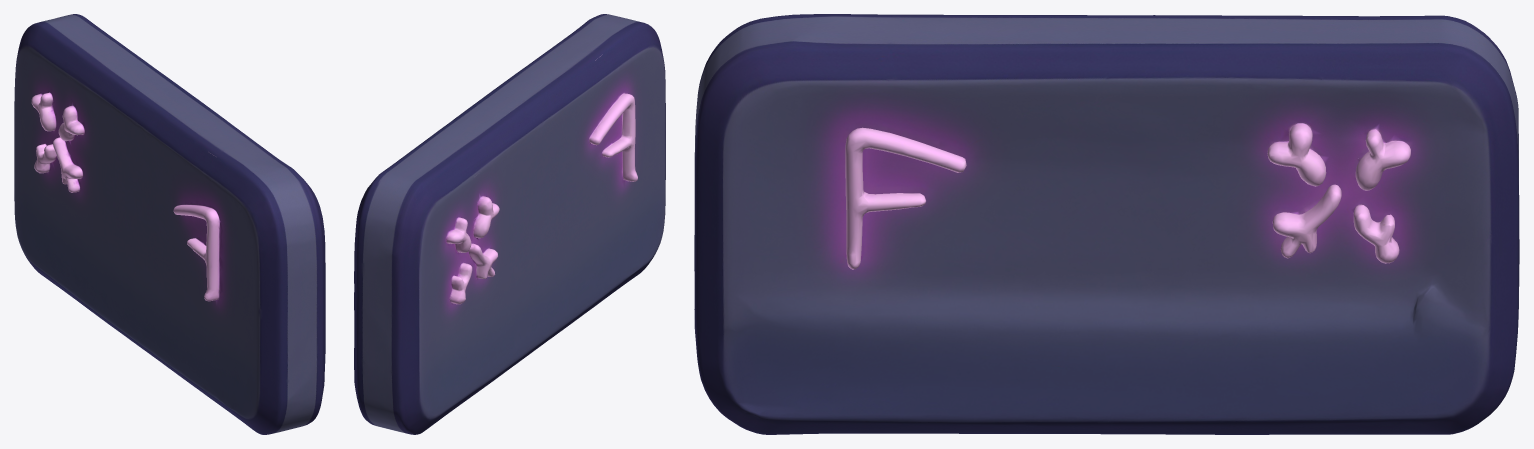
3 renders of one model, left to right at view 1: azimuth 30°, elevation 25°; view 2: azimuth 150°, elevation 25°; view 3: azimuth 270°, elevation 25°, orthographic. The views are drawn at different scales.
Visible parts, largest first — view 1: Mesh::generatedModels/2NgjkJDdjKUZAc82eQSW.gltf; view 2: Mesh::generatedModels/2NgjkJDdjKUZAc82eQSW.gltf; view 3: Mesh::generatedModels/2NgjkJDdjKUZAc82eQSW.gltf.
Part boxes in pixels (x1,y1,x2,y2): Mesh::generatedModels/2NgjkJDdjKUZAc82eQSW.gltf: (14,14,325,434); Mesh::generatedModels/2NgjkJDdjKUZAc82eQSW.gltf: (354,14,665,434); Mesh::generatedModels/2NgjkJDdjKUZAc82eQSW.gltf: (694,14,1519,434).
Bounding box in the file's own units: 0.2039 × 0.5259 × 1.
Materials: 1 (1 with a texture image).
